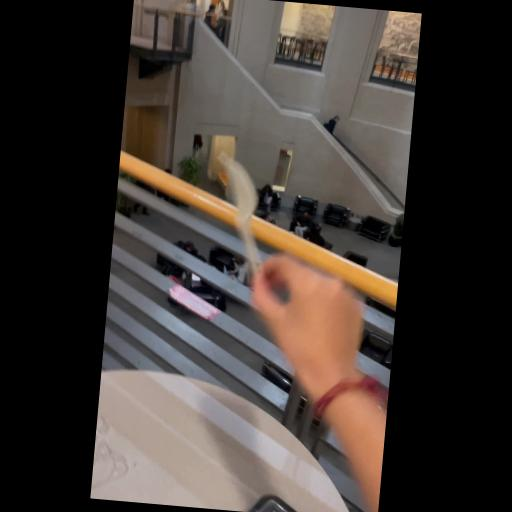utensil: (202, 150, 276, 286)
